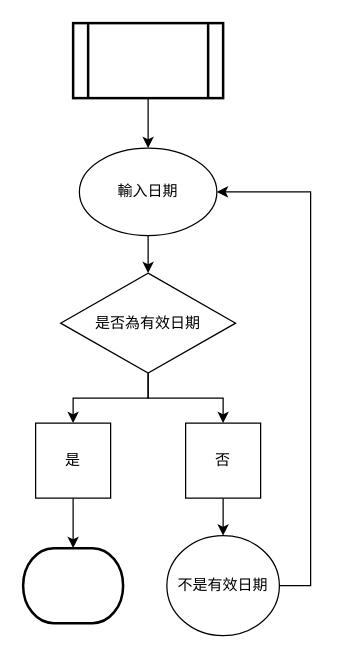
This 343x658 diagram has some shape labels left out. Here are the shapes that lost their labels. From the top down, the centre of each, then its label:
At (x=147, y=60): "date_input.py".
At (x=72, y=585): "end".
